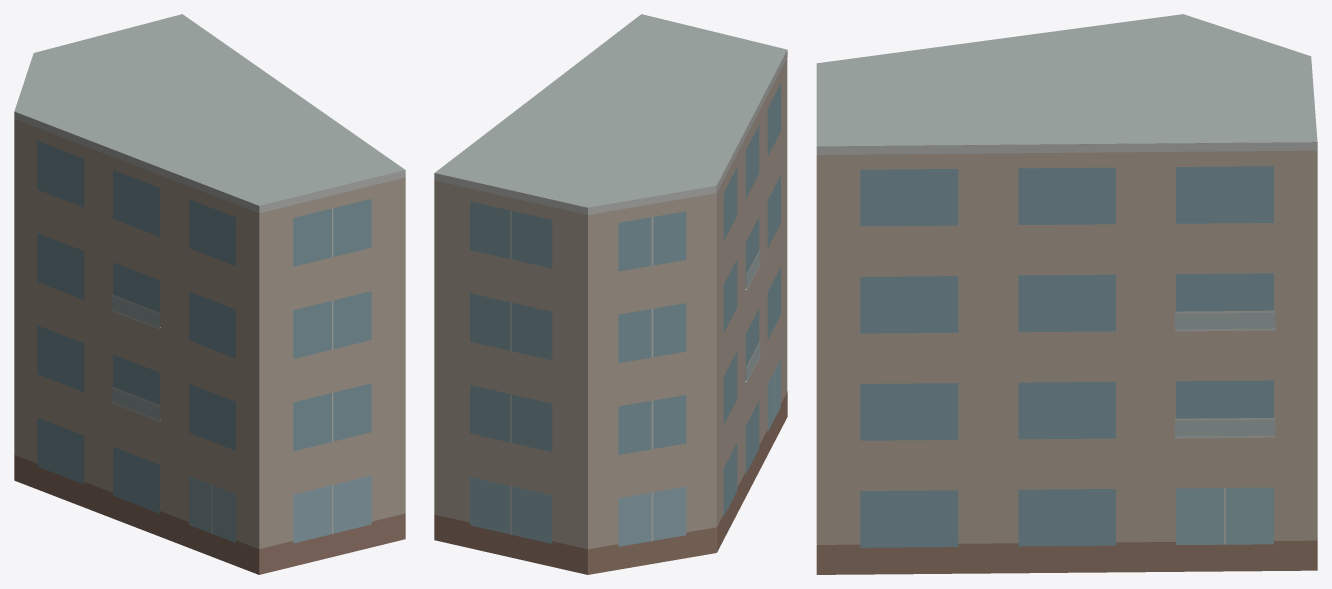
Rendered from survey-upis-32757609.glb.
The picture shows the model from 3 angles, left to right: view 1: azimuth 30°, elevation 25°; view 2: azimuth 150°, elevation 25°; view 3: azimuth 270°, elevation 25°; orthographic projection. The views are drawn at different scales.
Parts seen in each view (by area): view 1: survey-upis-32757609.tmp; view 2: survey-upis-32757609.tmp; view 3: survey-upis-32757609.tmp.
Boxes of the visible parts, x1,y1,x2,y2 form: survey-upis-32757609.tmp: (14,14,405,574); survey-upis-32757609.tmp: (434,14,787,574); survey-upis-32757609.tmp: (816,14,1317,574).
Size of the model in its own units: 8.09 by 12.2 by 12.94.
